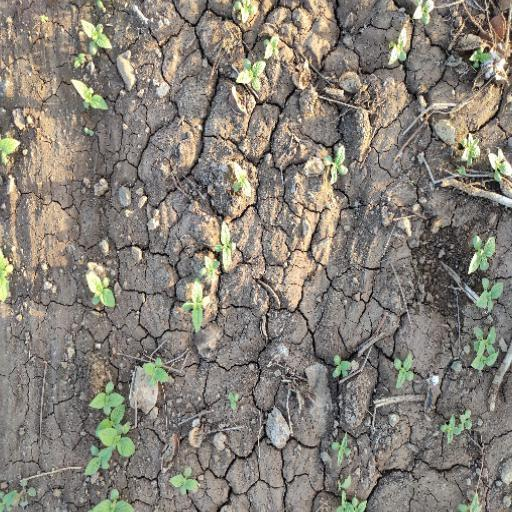crop: (175, 228, 242, 341), (461, 234, 505, 392), (77, 375, 136, 487), (66, 14, 115, 130), (228, 34, 290, 96), (78, 266, 124, 315), (321, 138, 351, 195), (320, 349, 360, 383), (328, 431, 355, 463)
